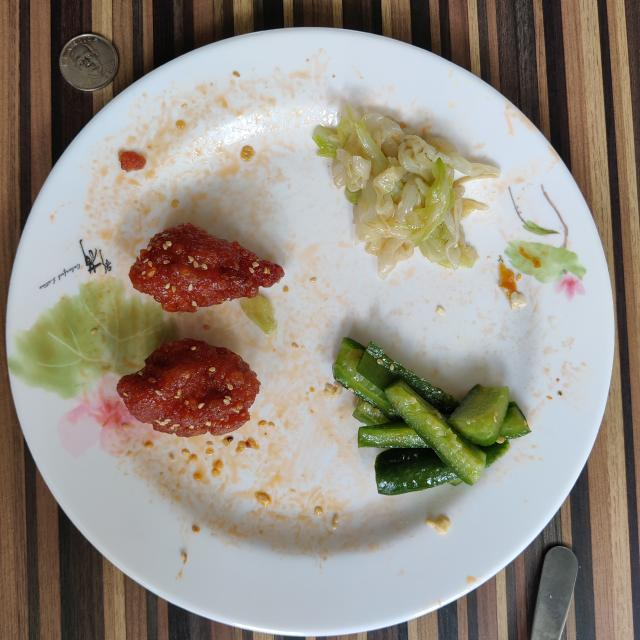cabbage: (312, 101, 500, 279)
coin: (59, 34, 119, 91)
cucumber: (332, 338, 530, 495)
